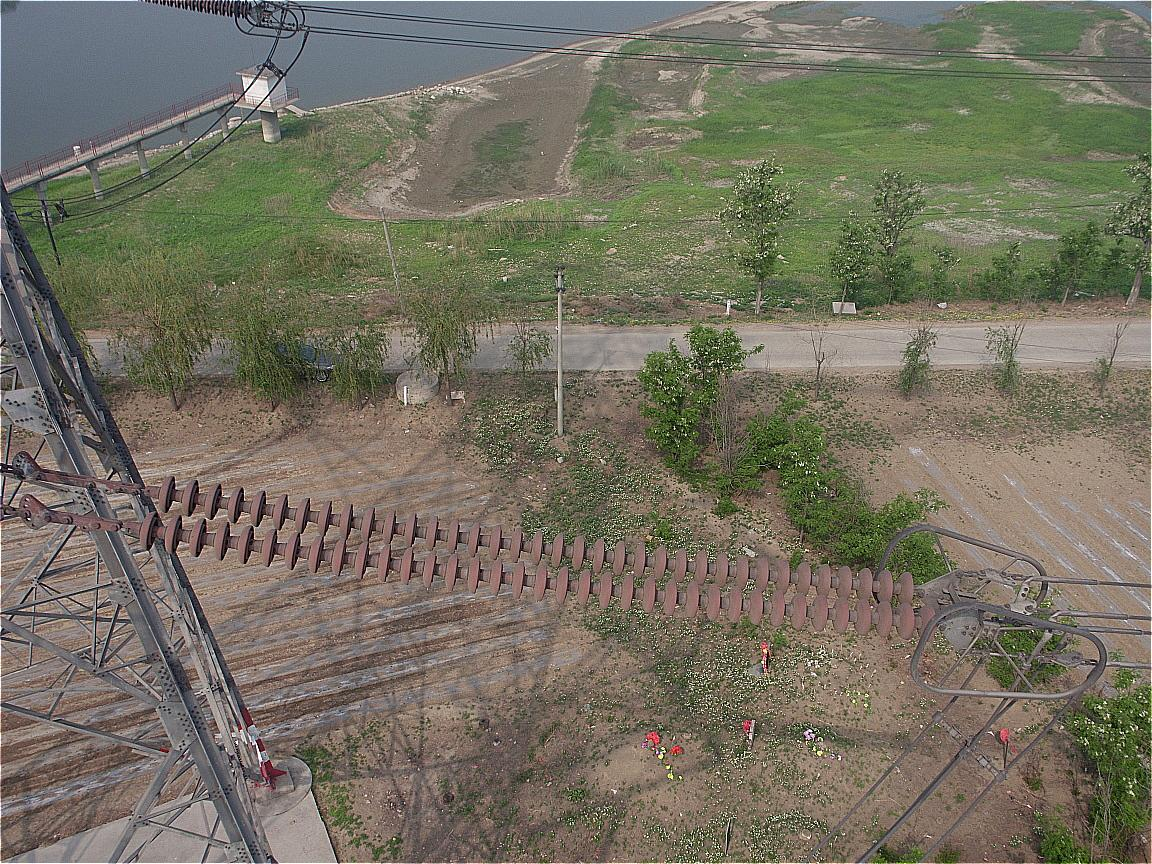insultor1: (122, 456, 935, 655)
